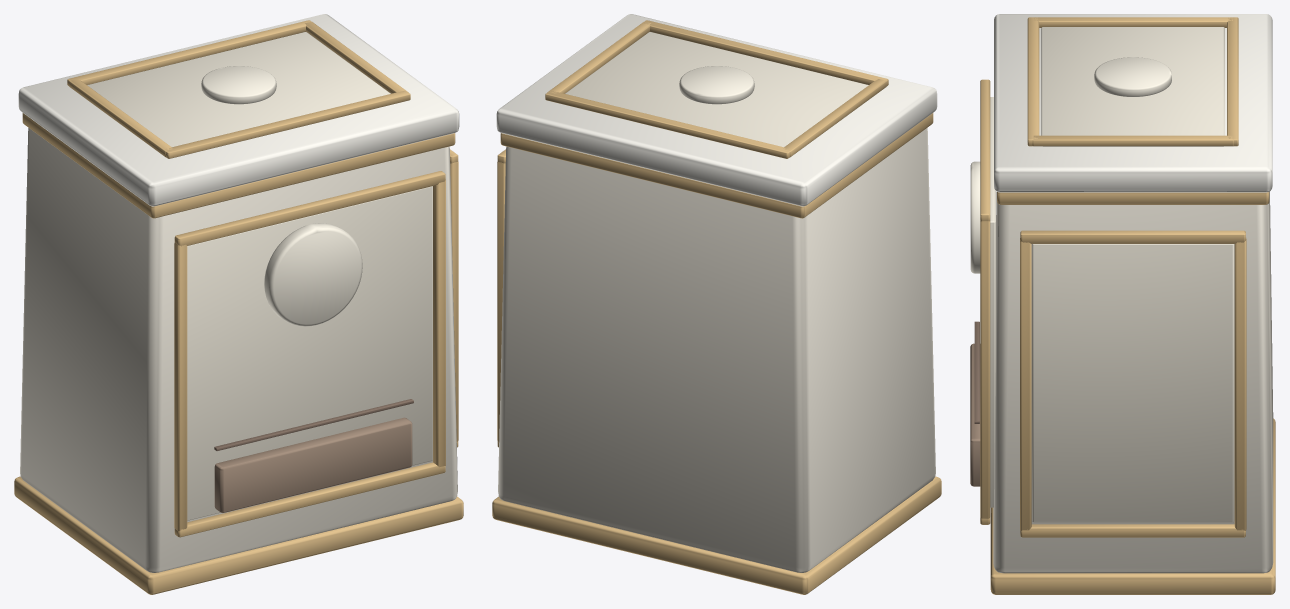
The model's file is blind_box_base.glb.
The picture shows the model from 3 angles, left to right: view 1: azimuth 30°, elevation 25°; view 2: azimuth 150°, elevation 25°; view 3: azimuth 270°, elevation 25°; orthographic projection. The views are drawn at different scales.
Visible parts, largest first — view 1: BoxBody, FrontPatternPanel, LidCap, TopPatternPanel, FrontFrameTrim, CollectionNamePlate, BottomCap, TopFrameTrim, EmblemBadge, UpperTrimBand, TopBadgeMount, SideFrameTrim (+1 smaller); view 2: BoxBody, LidCap, TopPatternPanel, BottomCap, TopFrameTrim, UpperTrimBand, TopBadgeMount, SideFrameTrim; view 3: SidePatternPanel, BoxBody, LidCap, TopPatternPanel, SideFrameTrim, TopFrameTrim, BottomCap, FrontFrameTrim, UpperTrimBand, TopBadgeMount, FrontPatternPanel, EmblemBadge (+2 smaller).
Part boxes in pixels (x1,y1,x2,y2): BoxBody: [20, 128, 457, 572]; FrontPatternPanel: [187, 186, 432, 520]; LidCap: [18, 14, 459, 206]; TopPatternPanel: [87, 32, 390, 147]; FrontFrameTrim: [174, 171, 445, 537]; CollectionNamePlate: [214, 417, 412, 512]; BottomCap: [14, 476, 463, 594]; TopFrameTrim: [67, 20, 410, 158]; EmblemBadge: [264, 223, 362, 326]; UpperTrimBand: [22, 113, 455, 218]; TopBadgeMount: [201, 66, 276, 104]; SideFrameTrim: [450, 149, 458, 447]; BoxBody: [498, 128, 935, 572]; LidCap: [496, 14, 937, 206]; TopPatternPanel: [565, 32, 868, 147]; BottomCap: [492, 476, 941, 594]; TopFrameTrim: [545, 20, 888, 158]; UpperTrimBand: [500, 113, 933, 218]; TopBadgeMount: [679, 66, 754, 104]; SideFrameTrim: [497, 149, 505, 447]; SidePatternPanel: [1032, 244, 1234, 522]; BoxBody: [993, 191, 1273, 573]; LidCap: [994, 14, 1272, 192]; TopPatternPanel: [1041, 27, 1224, 146]; SideFrameTrim: [1020, 230, 1246, 537]; TopFrameTrim: [1027, 17, 1238, 146]; BottomCap: [990, 418, 1275, 594]; FrontFrameTrim: [980, 79, 990, 524]; UpperTrimBand: [997, 192, 1269, 204]; TopBadgeMount: [1094, 57, 1171, 96]; FrontPatternPanel: [990, 97, 995, 507]; EmblemBadge: [970, 161, 980, 273].
Size of the model in its own units: 2.49 by 3.15 by 1.96.
